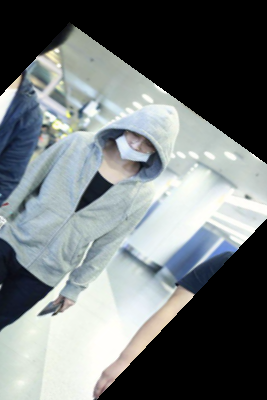mask_weared_incorrect: (106, 99, 204, 178)
